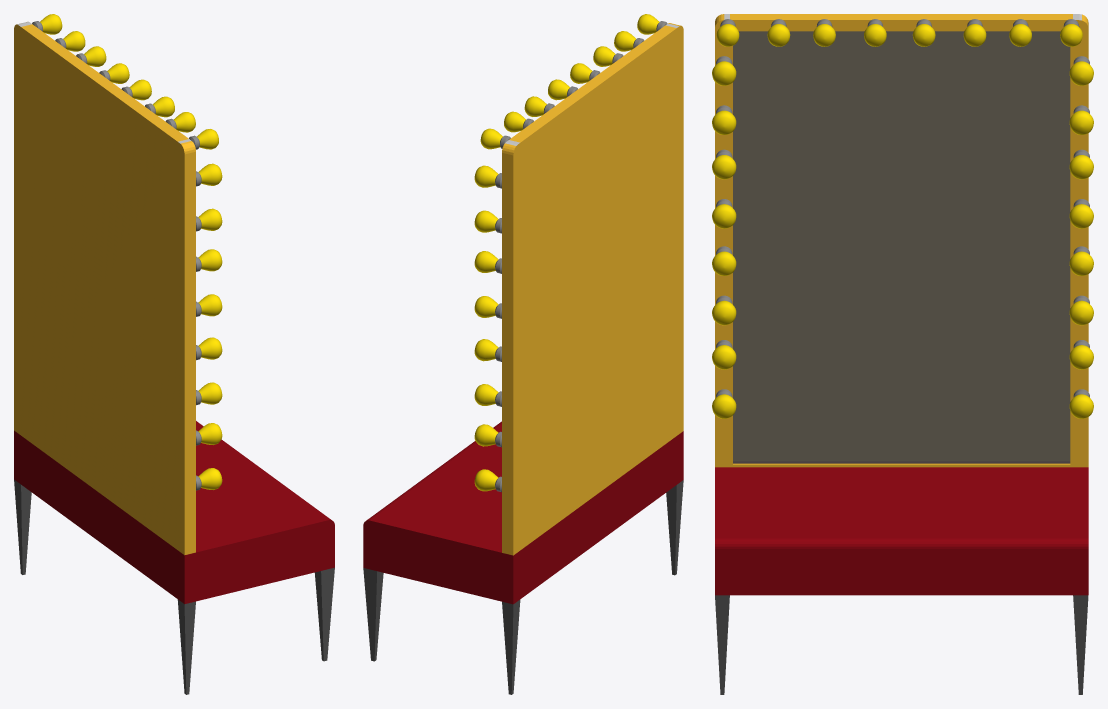
The model's file is LightDeskblend(2.0).fbx.
3 renders of one model, left to right at view 1: azimuth 30°, elevation 25°; view 2: azimuth 150°, elevation 25°; view 3: azimuth 270°, elevation 25°, orthographic. The views are drawn at different scales.
Visible parts, largest first — view 1: Desk, Bulb, Upper_Bulbs; view 2: Desk, Bulb, Upper_Bulbs; view 3: Desk, Bulb, Upper_Bulbs.
Boxes of the visible parts, x1,y1,x2,y2 form: Desk: [14, 21, 334, 694]; Bulb: [196, 163, 222, 490]; Upper_Bulbs: [32, 14, 218, 149]; Desk: [363, 23, 683, 694]; Bulb: [474, 165, 501, 492]; Upper_Bulbs: [480, 14, 667, 149]; Desk: [715, 14, 1088, 694]; Bulb: [712, 56, 1093, 418]; Upper_Bulbs: [716, 19, 1082, 46].
Bounding box in the file's own units: 200 × 707 × 402.
